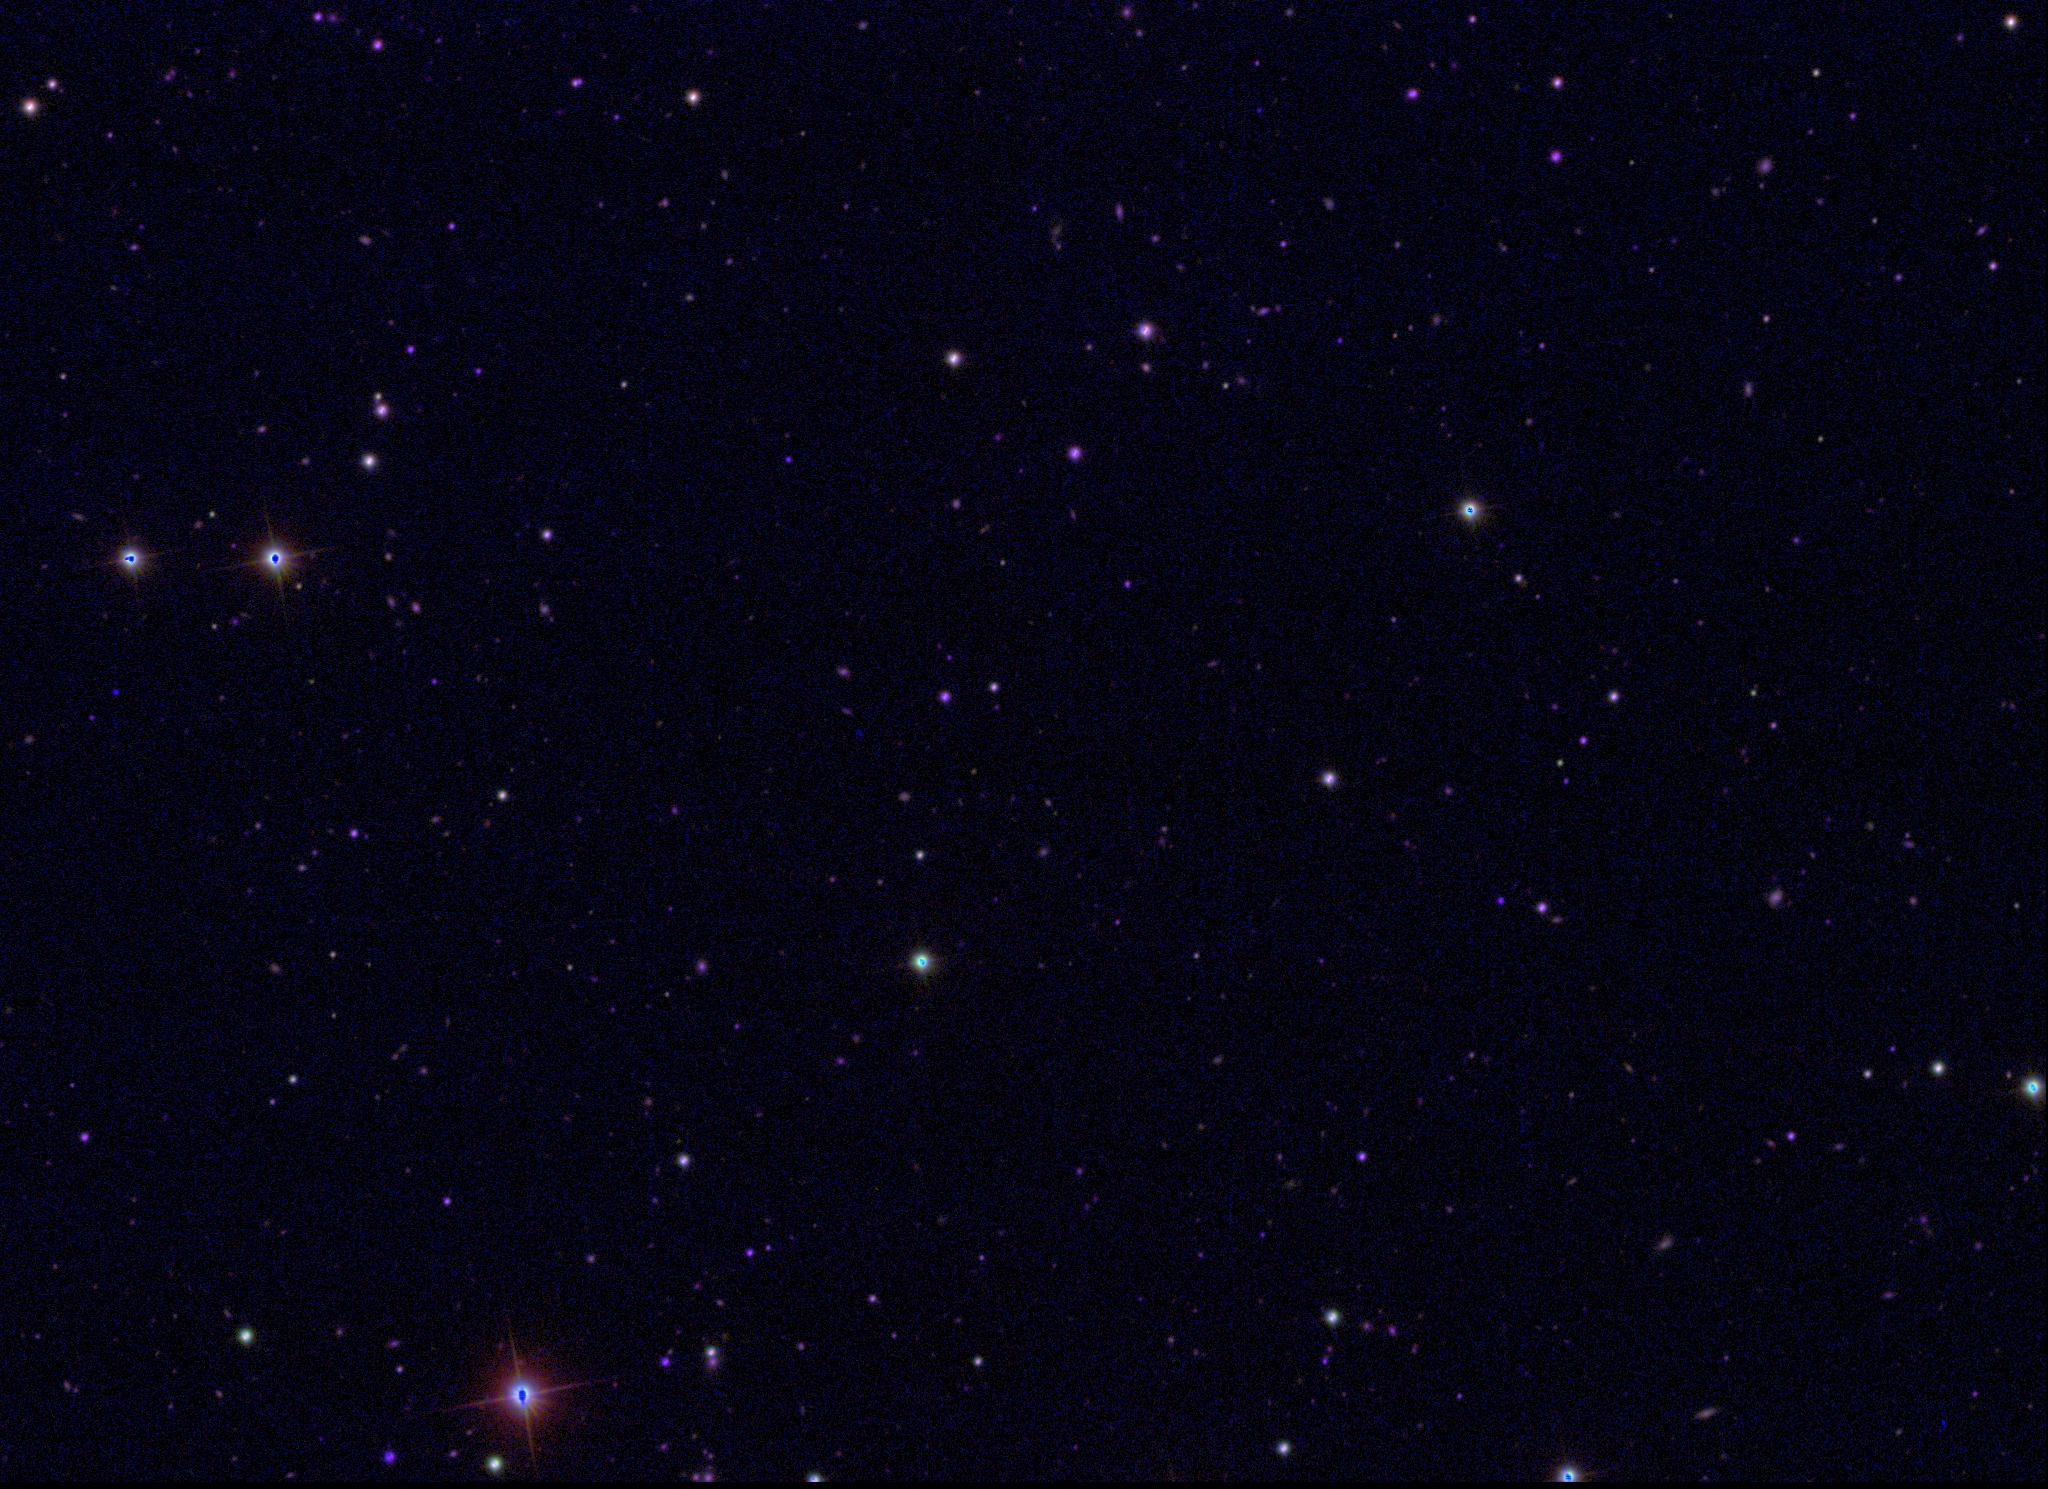L: (110, 686, 122, 698)
